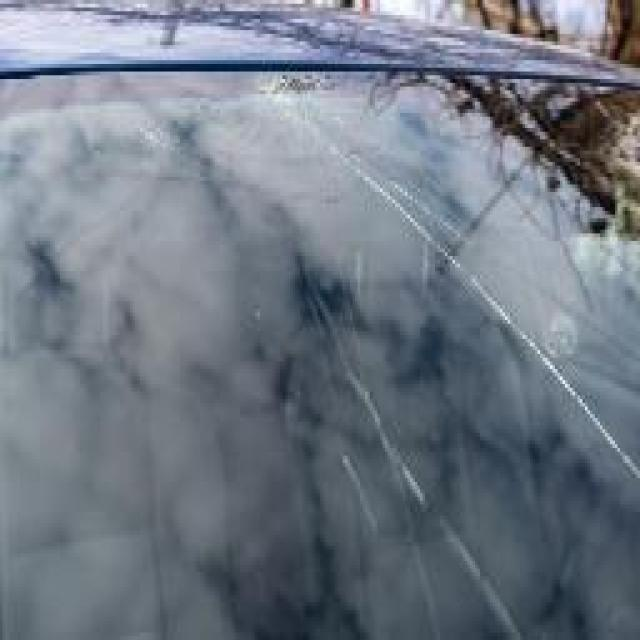Windshield: (120, 53, 640, 610)
